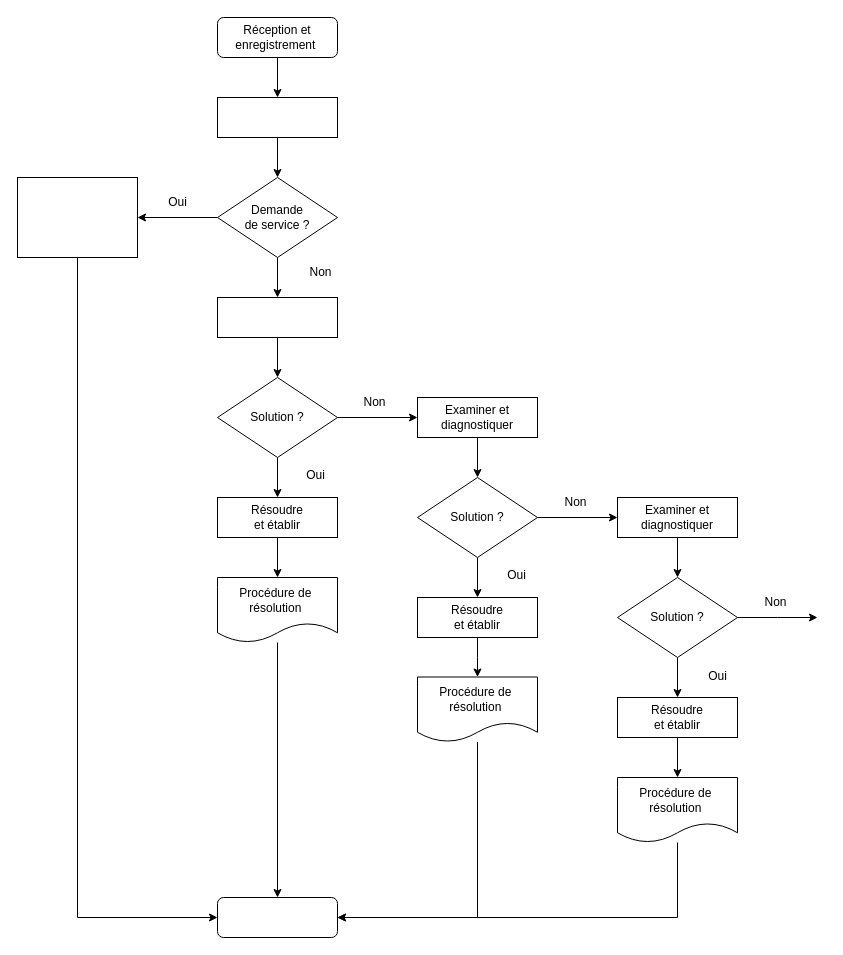
Some shapes in this 843 by 955 pixel diagram are drawn without their labels. The centre of each missing label's shape, as x and y in pixels:
"Classification" belongs at point (277, 117).
"Clôturer" belongs at point (277, 917).
"Engagement de la procédure de demande de service exterieur" belongs at point (77, 217).
"Support initial" belongs at point (277, 317).
